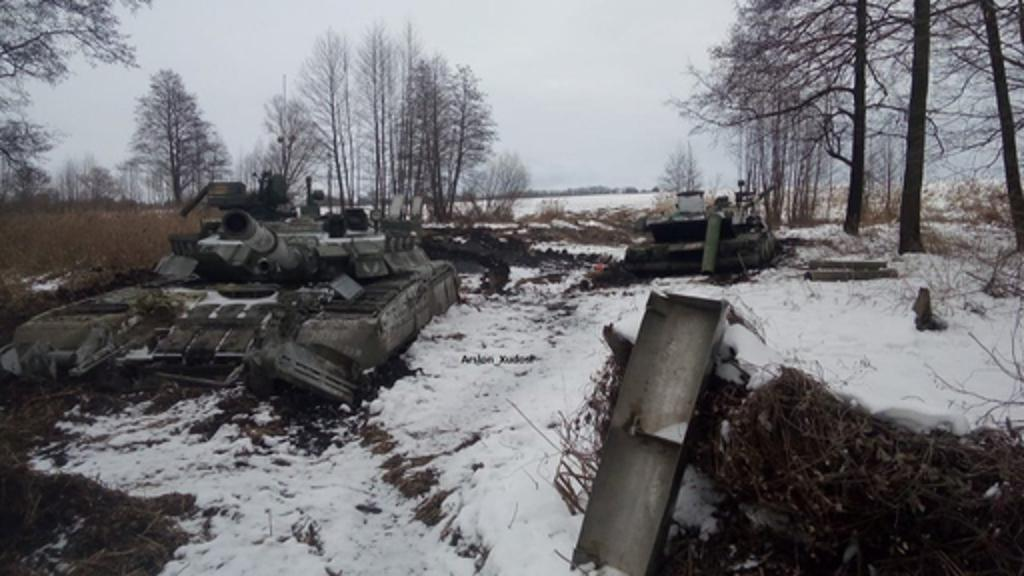TANK: (0, 178, 458, 408), (622, 182, 782, 284)
